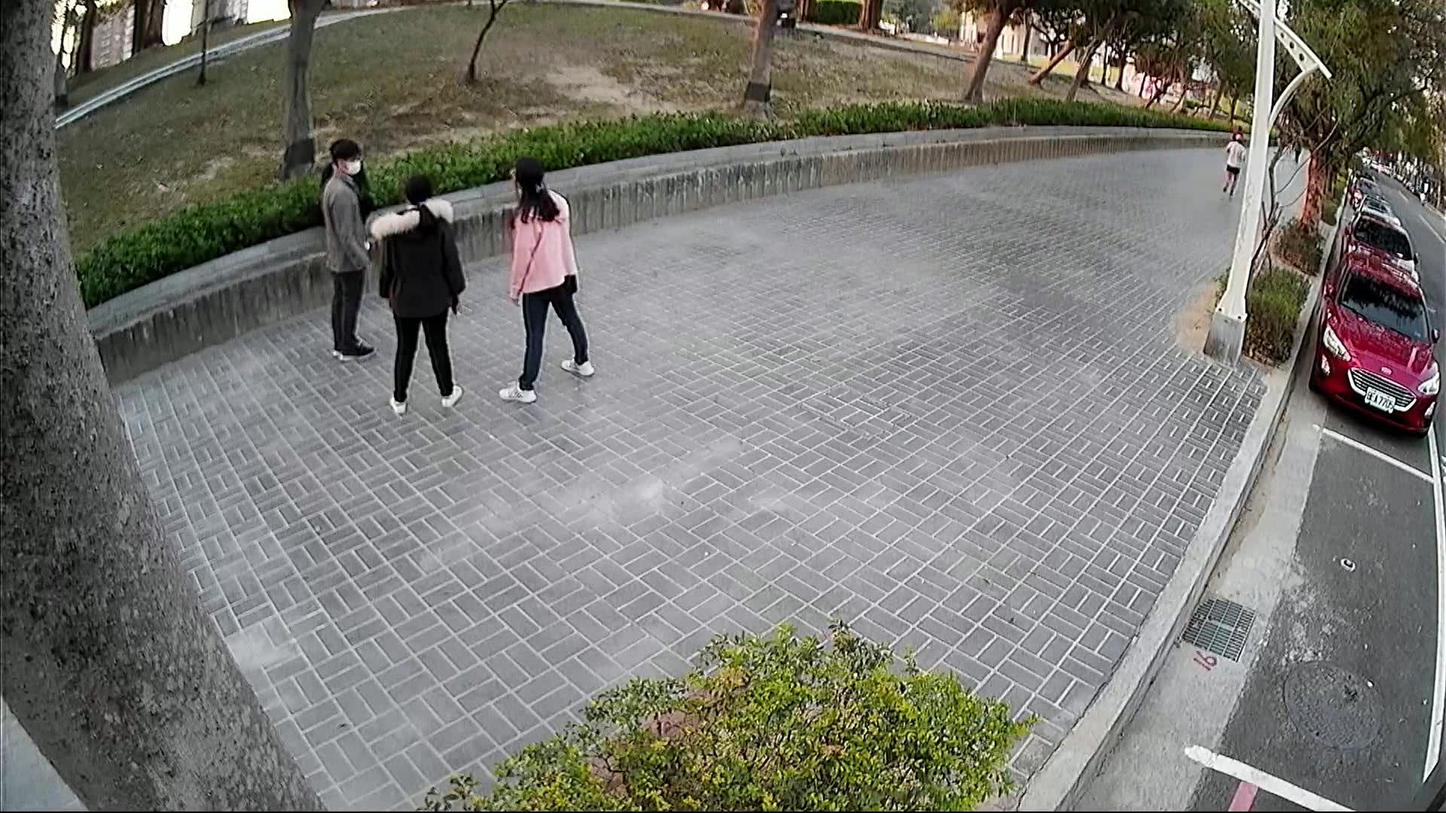person: (488, 149, 600, 410), (365, 169, 468, 417), (316, 136, 380, 364), (1216, 126, 1246, 199), (1287, 129, 1305, 165)
